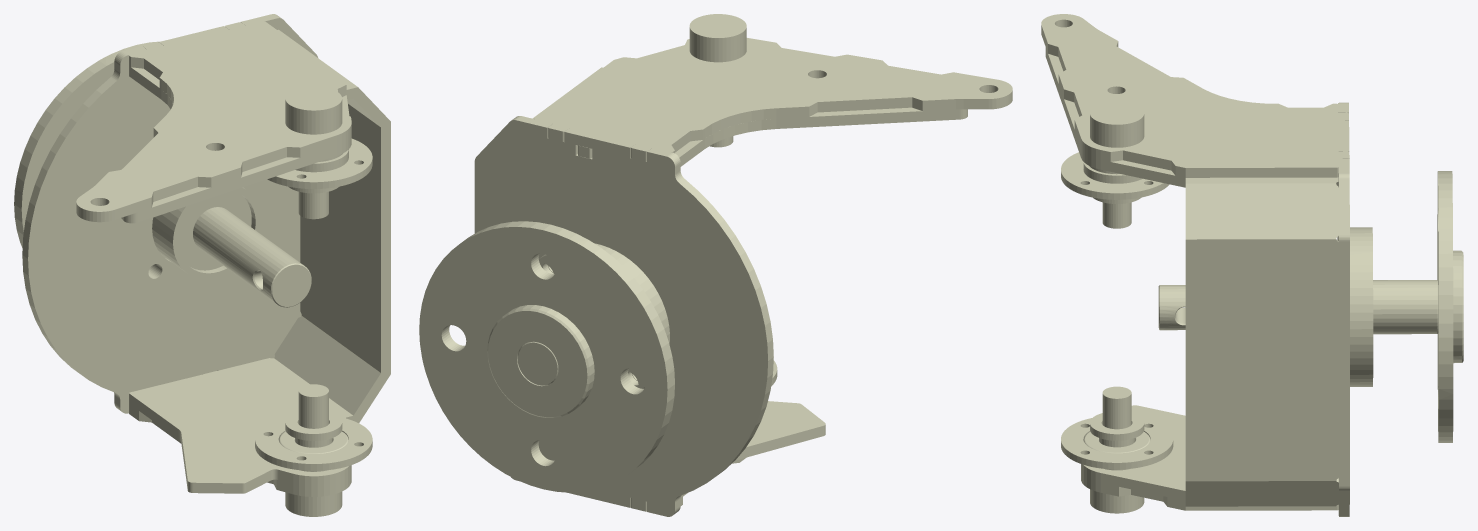
Rendered from rear_right_link.dae.
The picture shows the model from 3 angles, left to right: view 1: azimuth 30°, elevation 25°; view 2: azimuth 150°, elevation 25°; view 3: azimuth 270°, elevation 25°; orthographic projection. The views are drawn at different scales.
Parts seen in each view (by area): view 1: node0; view 2: node0; view 3: node0.
Part boxes in pixels (box(x1,y1,x2,y2)): node0: box(14, 14, 390, 516); node0: box(419, 14, 1012, 516); node0: box(1041, 14, 1463, 516).
Size of the model in its own units: 0.2337 by 0.233 by 0.2365.
